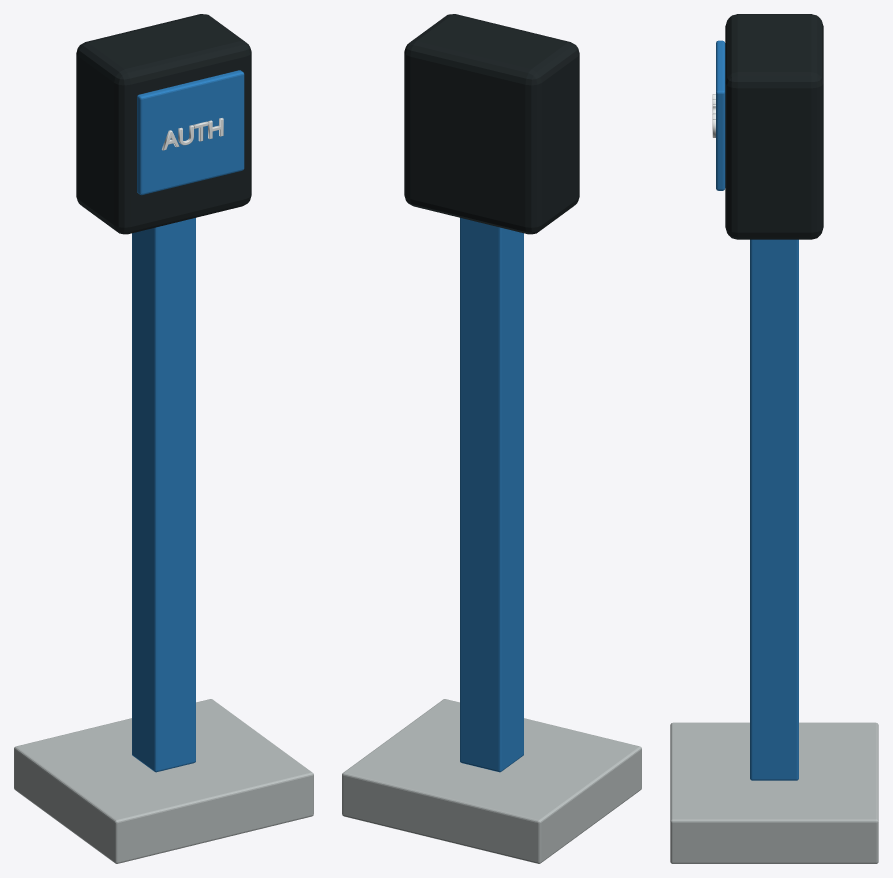
Rendered from authorization_reader.glb.
3 views of the same model, side by side, from view 1: azimuth 30°, elevation 25°; view 2: azimuth 150°, elevation 25°; view 3: azimuth 270°, elevation 25° (orthographic).
Parts seen in each view (by area): view 1: READER_post, READER_base, READER_housing, READER_scan_face, READER_label; view 2: READER_post, READER_housing, READER_base; view 3: READER_base, READER_post, READER_housing, READER_scan_face.
Boxes of the visible parts, x1,y1,x2,y2 form: READER_post: [132, 218, 195, 772]; READER_base: [14, 699, 313, 863]; READER_housing: [76, 14, 251, 234]; READER_scan_face: [137, 70, 244, 195]; READER_label: [162, 118, 223, 150]; READER_post: [460, 218, 523, 772]; READER_housing: [404, 14, 579, 234]; READER_base: [342, 699, 641, 863]; READER_base: [670, 722, 878, 863]; READER_post: [750, 239, 798, 780]; READER_housing: [725, 14, 823, 239]; READER_scan_face: [716, 40, 725, 190].
Bounding box in the file's own units: 0.38 × 1.39 × 0.34.
